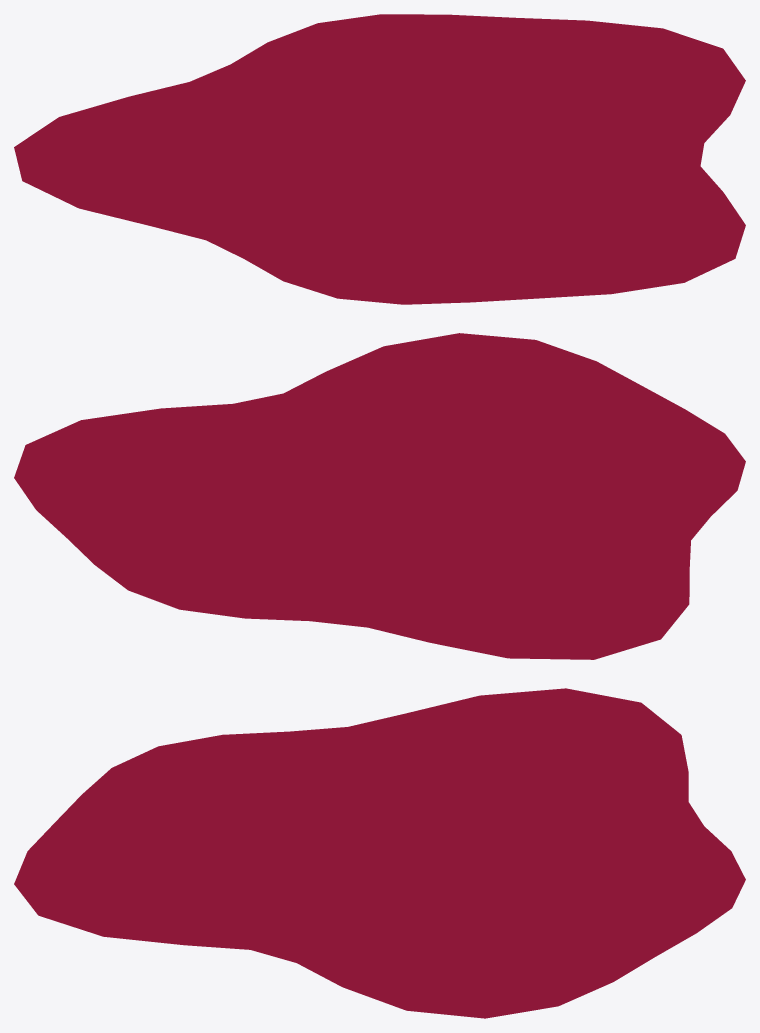
The model's file is juice.glb.
The picture shows the model from 3 angles, top to bottom: view 1: azimuth 30°, elevation 25°; view 2: azimuth 150°, elevation 25°; view 3: azimuth 270°, elevation 25°; orthographic projection. The views are drawn at different scales.
Parts seen in each view (by area): view 1: Fresh_Purple_Red_Juice; view 2: Fresh_Purple_Red_Juice; view 3: Fresh_Purple_Red_Juice.
Boxes of the visible parts, x1,y1,x2,y2 form: Fresh_Purple_Red_Juice: [14, 14, 745, 304]; Fresh_Purple_Red_Juice: [14, 333, 745, 659]; Fresh_Purple_Red_Juice: [14, 688, 745, 1018].
Size of the model in its own units: 0.3957 by 0.0005 by 0.3707.
